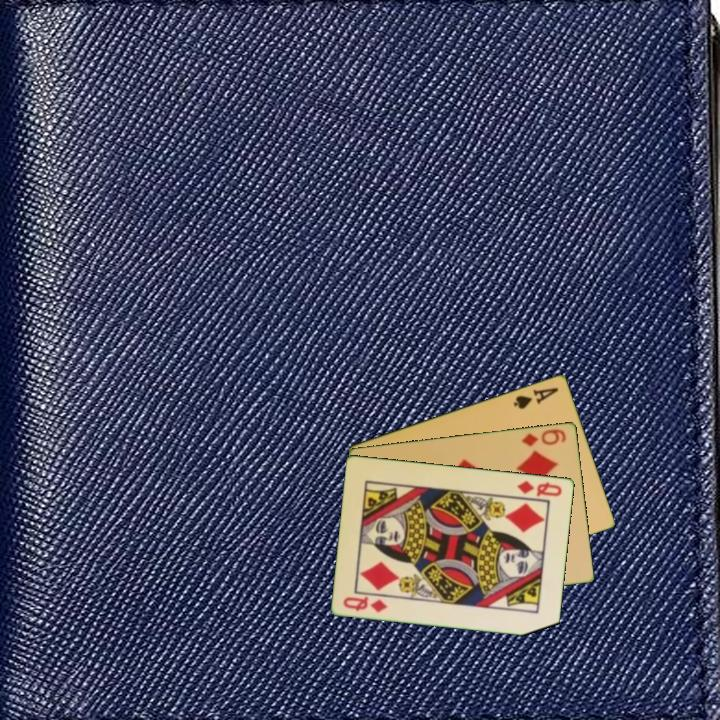6d: (518, 425, 569, 449)
As: (510, 383, 561, 412)
Qd: (513, 477, 565, 499), (340, 593, 391, 615)
